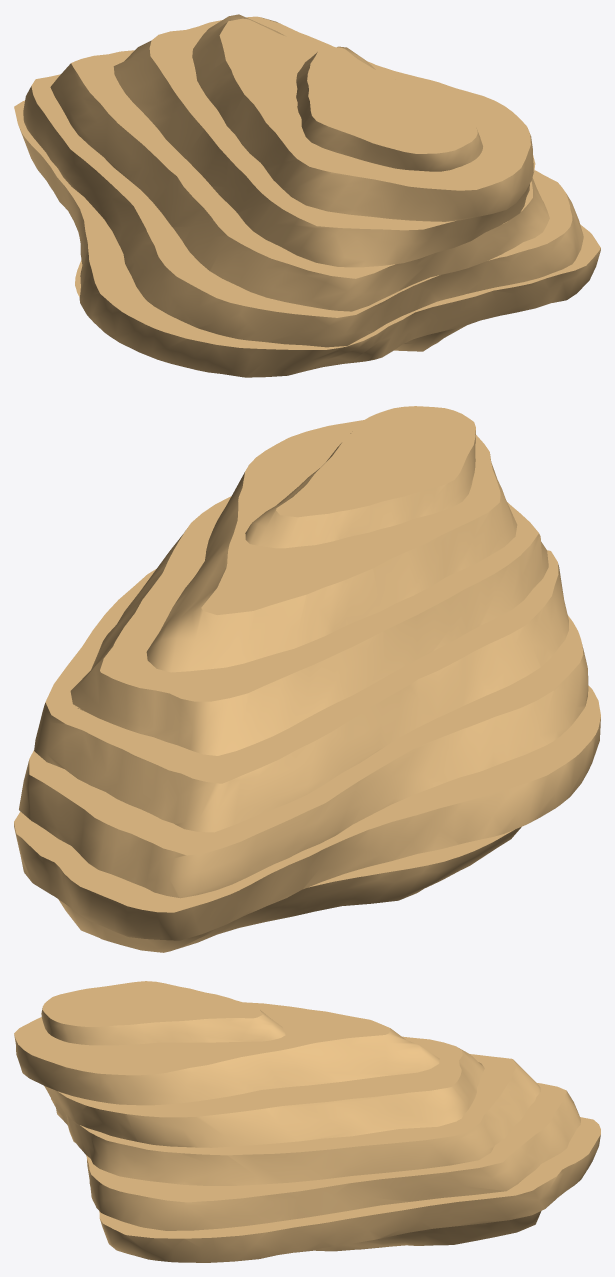
Rendered from kayou3 sable.fbx.
The picture shows the model from 3 angles, top to bottom: view 1: azimuth 30°, elevation 25°; view 2: azimuth 150°, elevation 25°; view 3: azimuth 270°, elevation 25°; orthographic projection. The views are drawn at different scales.
Parts seen in each view (by area): view 1: Kayou3; view 2: Kayou3; view 3: Kayou3.
Boxes of the visible parts, <box> form: Kayou3: <box>14,14,600,377</box>; Kayou3: <box>14,406,600,952</box>; Kayou3: <box>14,981,600,1262</box>.
Bounding box in the file's own units: 25.95 × 14.88 × 37.76.
